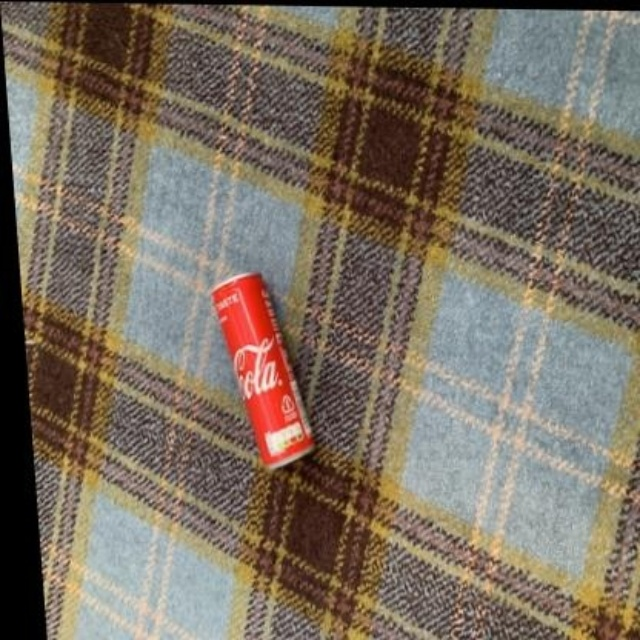trash: (212, 272, 312, 466)
